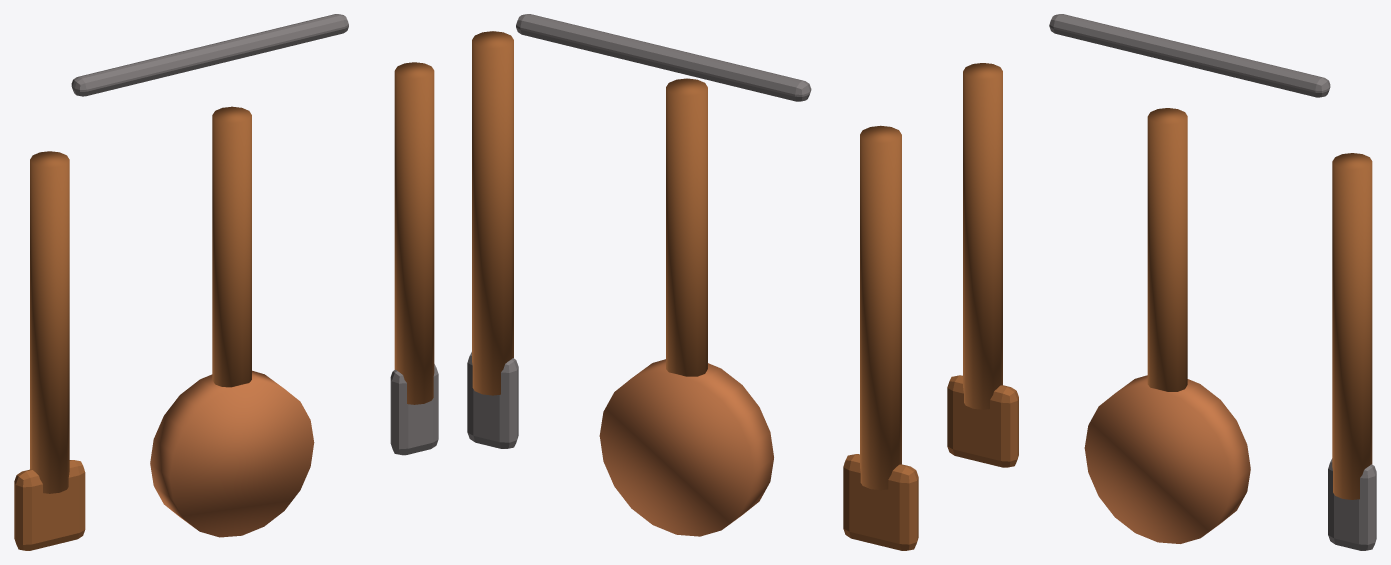
The model's file is PR3D_Environment_Utensils.fbx.
The picture shows the model from 3 angles, left to right: view 1: azimuth 30°, elevation 25°; view 2: azimuth 150°, elevation 25°; view 3: azimuth 330°, elevation 25°; orthographic projection. The views are drawn at different scales.
Parts seen in each view (by area): view 1: Visual_UtensilLadle, Visual_UtensilHandle_2, Visual_UtensilHandle_0, Visual_UtensilHandle_1, Visual_UtensilRail, Visual_UtensilSpatula, Visual_UtensilTongs; view 2: Visual_UtensilLadle, Visual_UtensilHandle_0, Visual_UtensilHandle_2, Visual_UtensilHandle_1, Visual_UtensilRail, Visual_UtensilSpatula, Visual_UtensilTongs; view 3: Visual_UtensilLadle, Visual_UtensilHandle_2, Visual_UtensilHandle_0, Visual_UtensilHandle_1, Visual_UtensilRail, Visual_UtensilSpatula, Visual_UtensilTongs.
Boxes of the visible parts, x1=… form: Visual_UtensilLadle: x1=150, y1=370, x2=314, y2=537; Visual_UtensilHandle_2: x1=394, y1=62, x2=434, y2=404; Visual_UtensilHandle_0: x1=30, y1=151, x2=69, y2=493; Visual_UtensilHandle_1: x1=212, y1=106, x2=251, y2=387; Visual_UtensilRail: x1=71, y1=14, x2=348, y2=96; Visual_UtensilSpatula: x1=14, y1=460, x2=85, y2=550; Visual_UtensilTongs: x1=390, y1=364, x2=438, y2=455; Visual_UtensilLadle: x1=599, y1=359, x2=773, y2=536; Visual_UtensilHandle_0: x1=860, y1=125, x2=901, y2=490; Visual_UtensilHandle_2: x1=472, y1=31, x2=513, y2=395; Visual_UtensilHandle_1: x1=666, y1=78, x2=707, y2=376; Visual_UtensilRail: x1=516, y1=14, x2=811, y2=101; Visual_UtensilSpatula: x1=843, y1=454, x2=918, y2=550; Visual_UtensilTongs: x1=467, y1=352, x2=518, y2=448; Visual_UtensilLadle: x1=1084, y1=375, x2=1250, y2=543; Visual_UtensilHandle_2: x1=1332, y1=153, x2=1372, y2=499; Visual_UtensilHandle_0: x1=963, y1=63, x2=1002, y2=409; Visual_UtensilHandle_1: x1=1147, y1=108, x2=1187, y2=391; Visual_UtensilRail: x1=1049, y1=14, x2=1330, y2=97; Visual_UtensilSpatula: x1=947, y1=375, x2=1018, y2=467; Visual_UtensilTongs: x1=1328, y1=458, x2=1376, y2=550.
Bounding box in the file's own units: 1.11 × 1.17 × 0.17.
